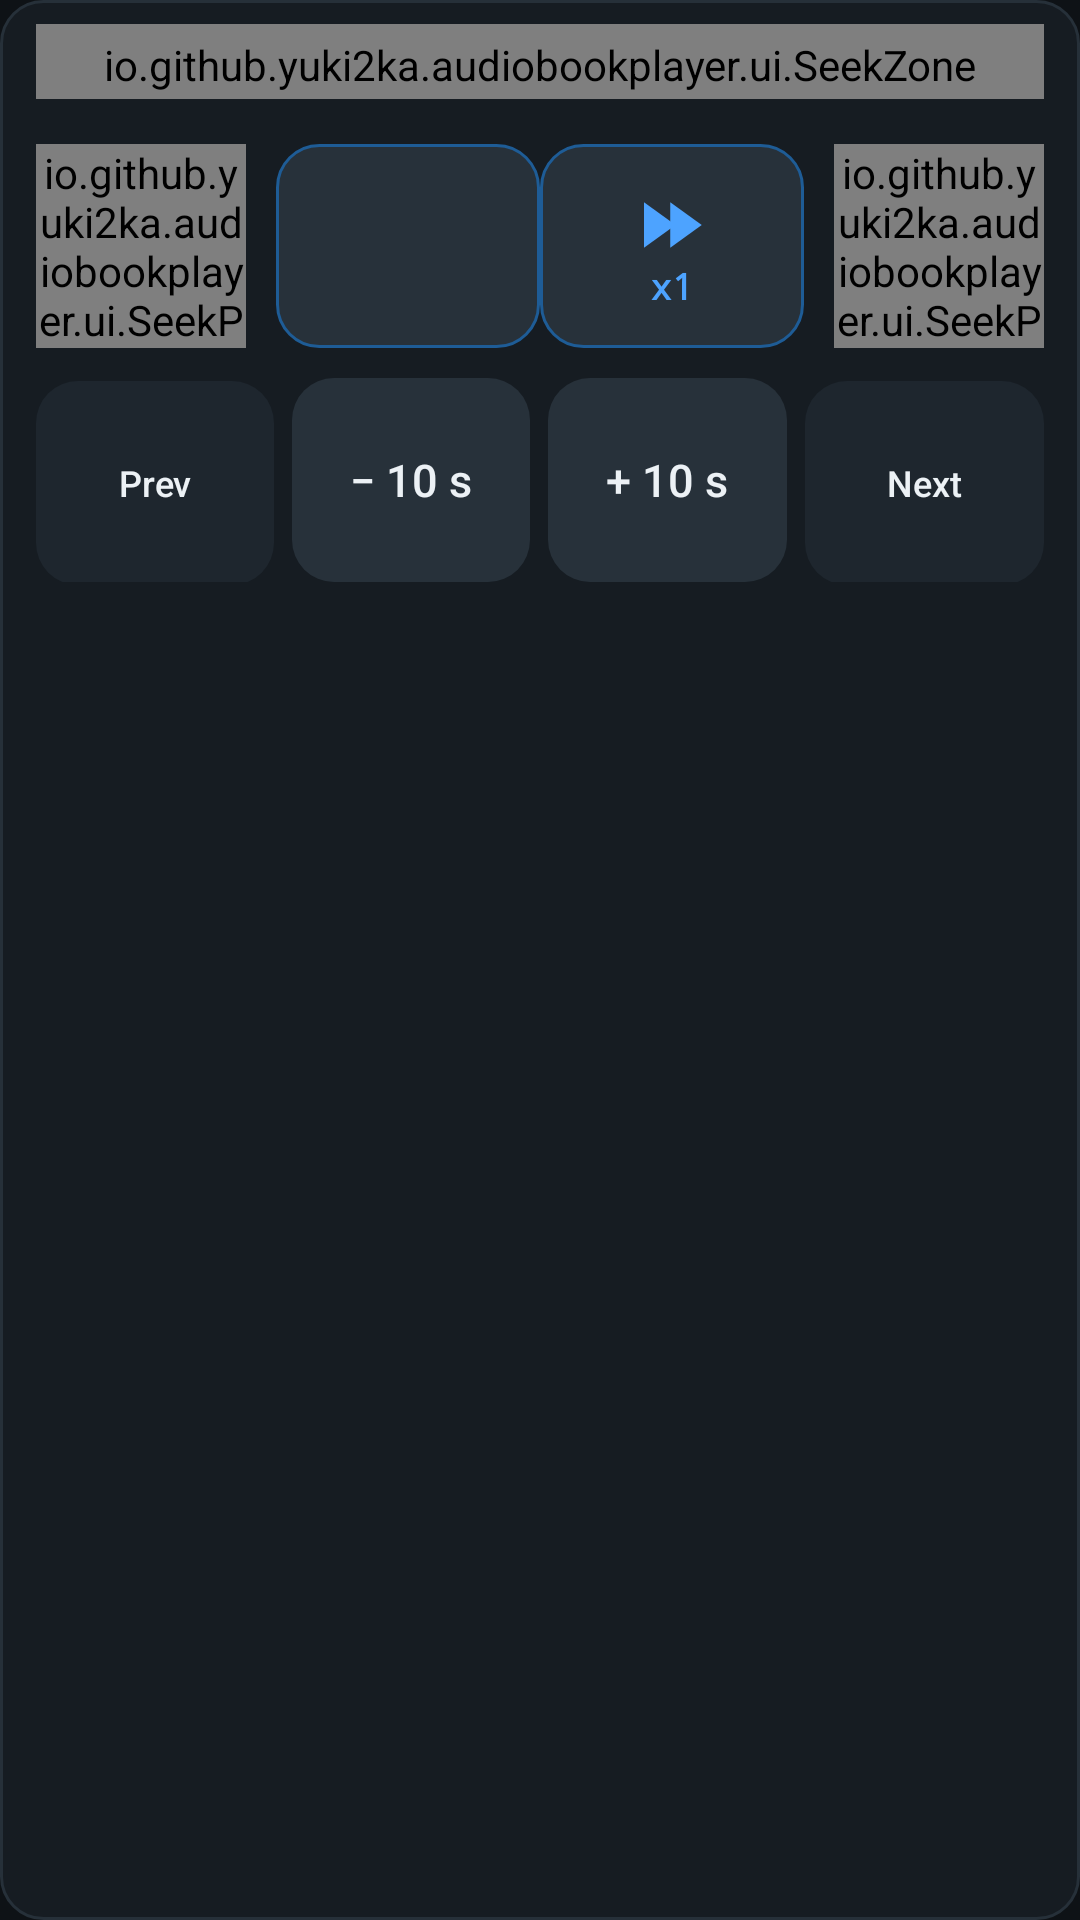

Where icons sit on this 1080px x 1920px app screen, as (x1, y1, x2, y2):
fast play state: (644, 202, 702, 248)
